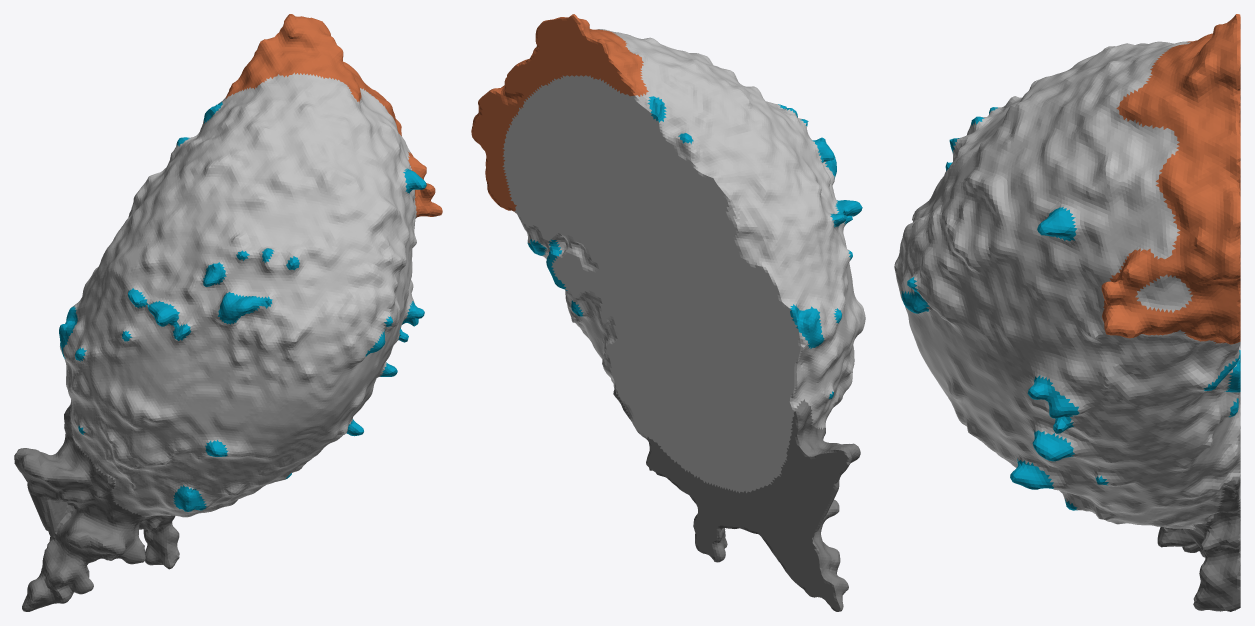
3 views of the same model, side by side, from view 1: azimuth 30°, elevation 25°; view 2: azimuth 150°, elevation 25°; view 3: azimuth 270°, elevation 25° (orthographic). The views are drawn at different scales.
Size of the model in its own units: 118 by 158 by 69.47.
